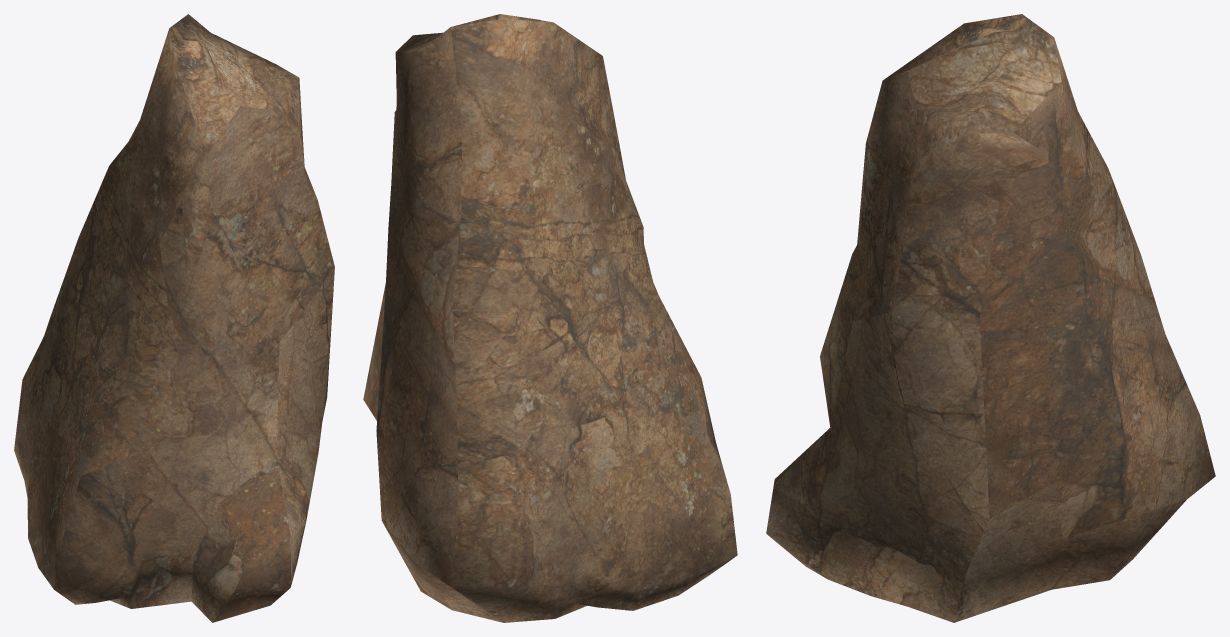
The model's file is rock4.fbx.
3 renders of one model, left to right at view 1: azimuth 30°, elevation 25°; view 2: azimuth 150°, elevation 25°; view 3: azimuth 270°, elevation 25°, orthographic. The views are drawn at different scales.
Visible parts, largest first — view 1: Rock4; view 2: Rock4; view 3: Rock4.
Boxes of the visible parts, left/top/right/bottom form: Rock4: left=14, top=14, right=334, bottom=622; Rock4: left=363, top=14, right=737, bottom=622; Rock4: left=766, top=14, right=1215, bottom=622.
Bounding box in the file's own units: 200 × 319 × 232.
1 material, 1 textured.
